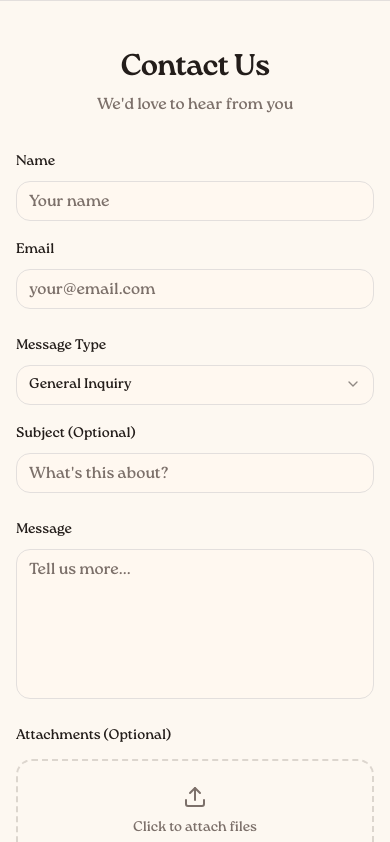
Form Validation - Contact Form › validates email format
The width and height of the screenshot is (390, 842).
Step 1. Type "invalid-email" into the field labelled "Email" → [195, 289], box [16,269,374,309]
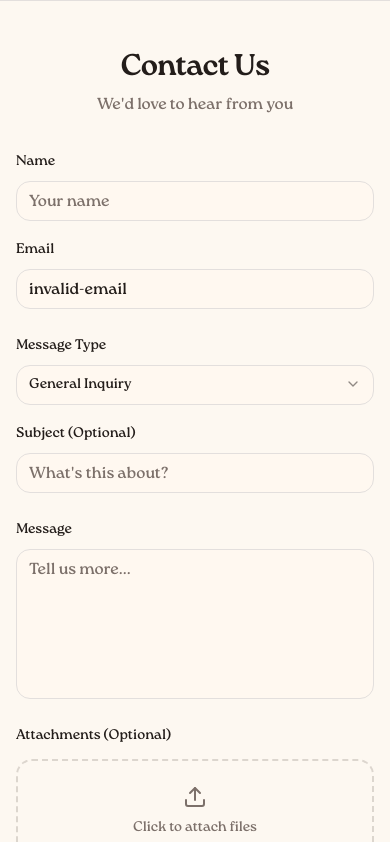
Step 2. Leave the field labelled "Email", box [16,269,374,309]
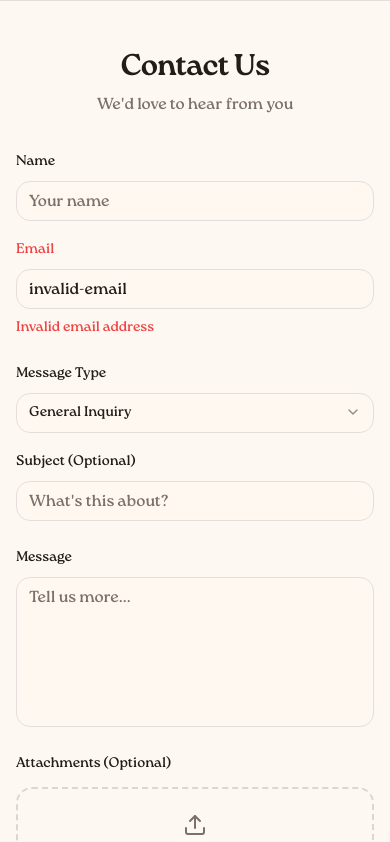
Result: the text "Invalid email address" is shown at [16,318,154,336]
